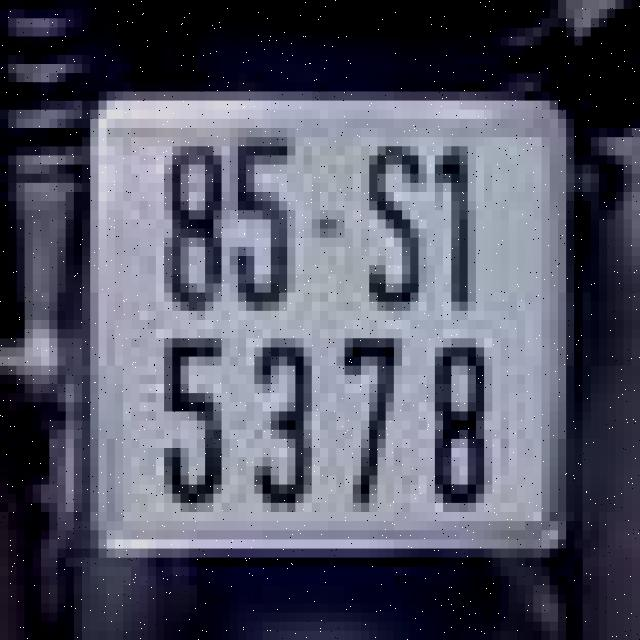1: (427, 123, 484, 324)
3: (250, 338, 316, 530)
5: (152, 324, 234, 526), (226, 133, 300, 324)
7: (332, 329, 406, 521)
8: (418, 329, 501, 521), (160, 137, 226, 311)
S: (348, 133, 422, 324)
